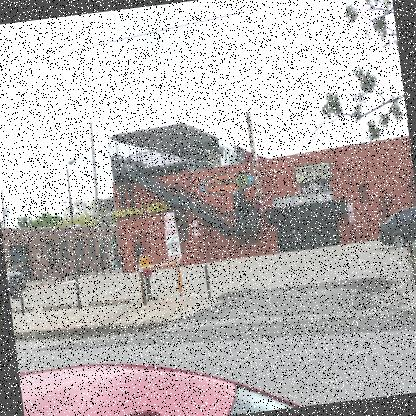Car: (18, 338, 302, 415), (377, 205, 415, 251), (5, 253, 28, 300)
